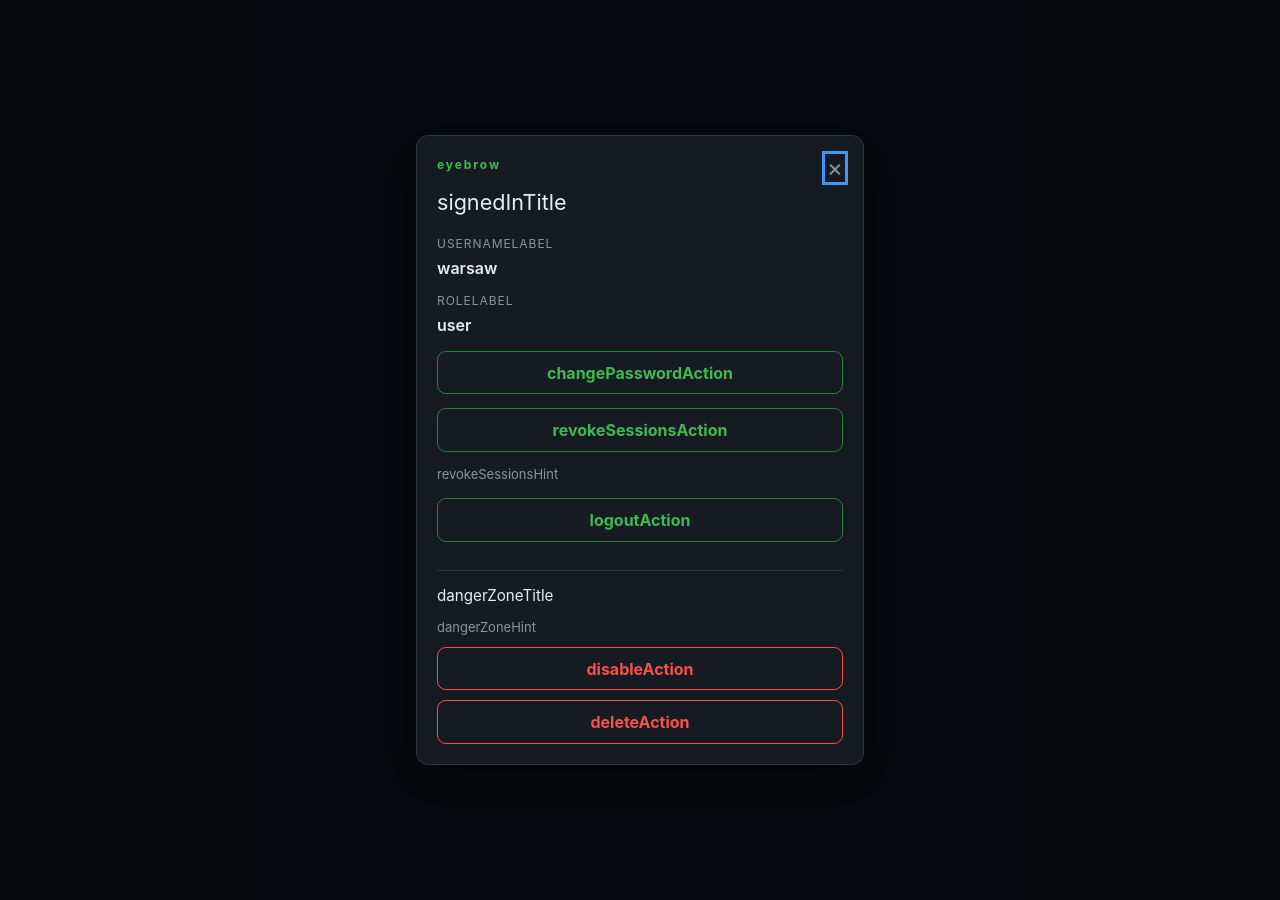
it: account-modal sessions › reports failures and stays in the confirm step
Click the button "deleteAction" at (640, 722), box [437,700,843,744]
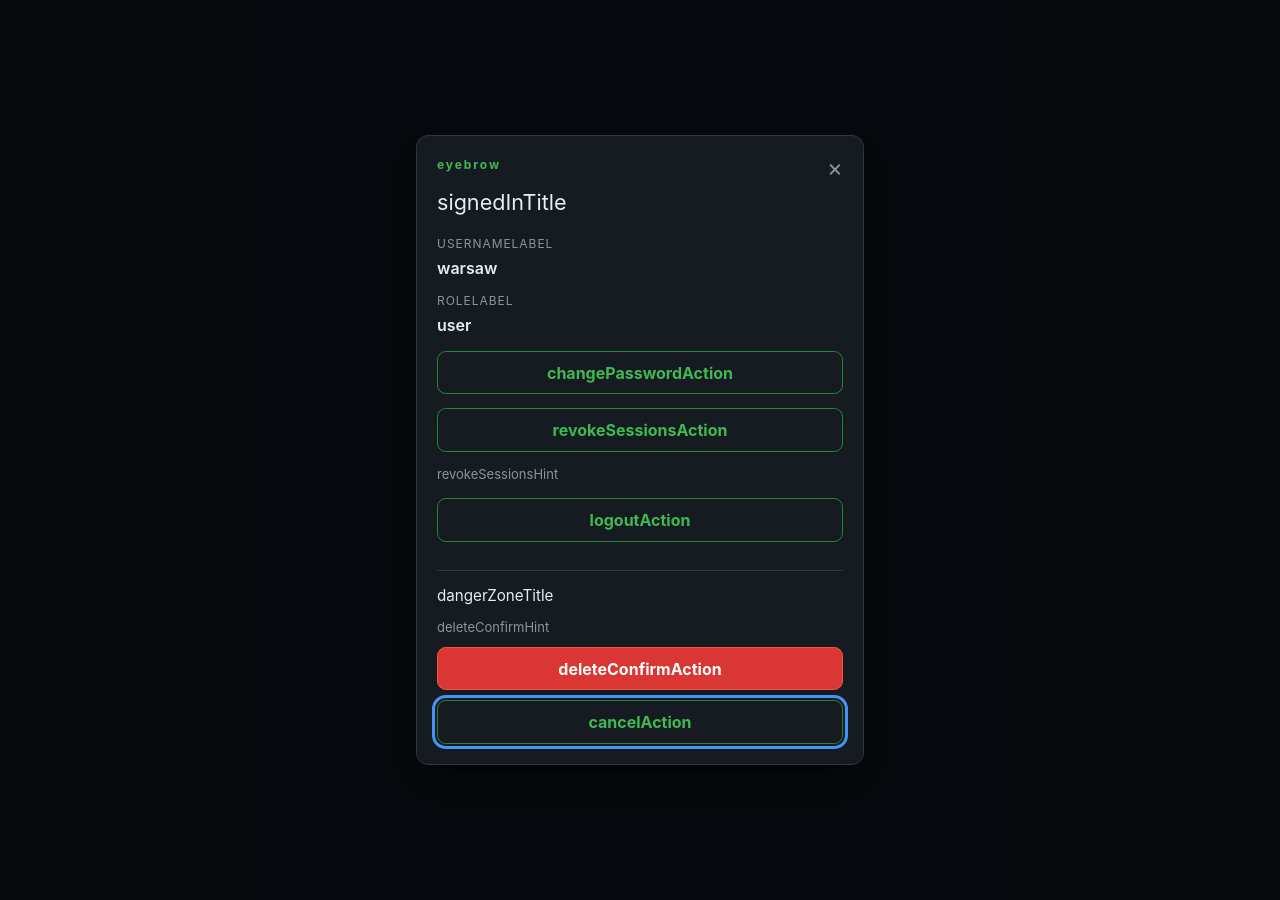
Click the button "deleteConfirmAction" at (640, 669), box [437,647,843,690]
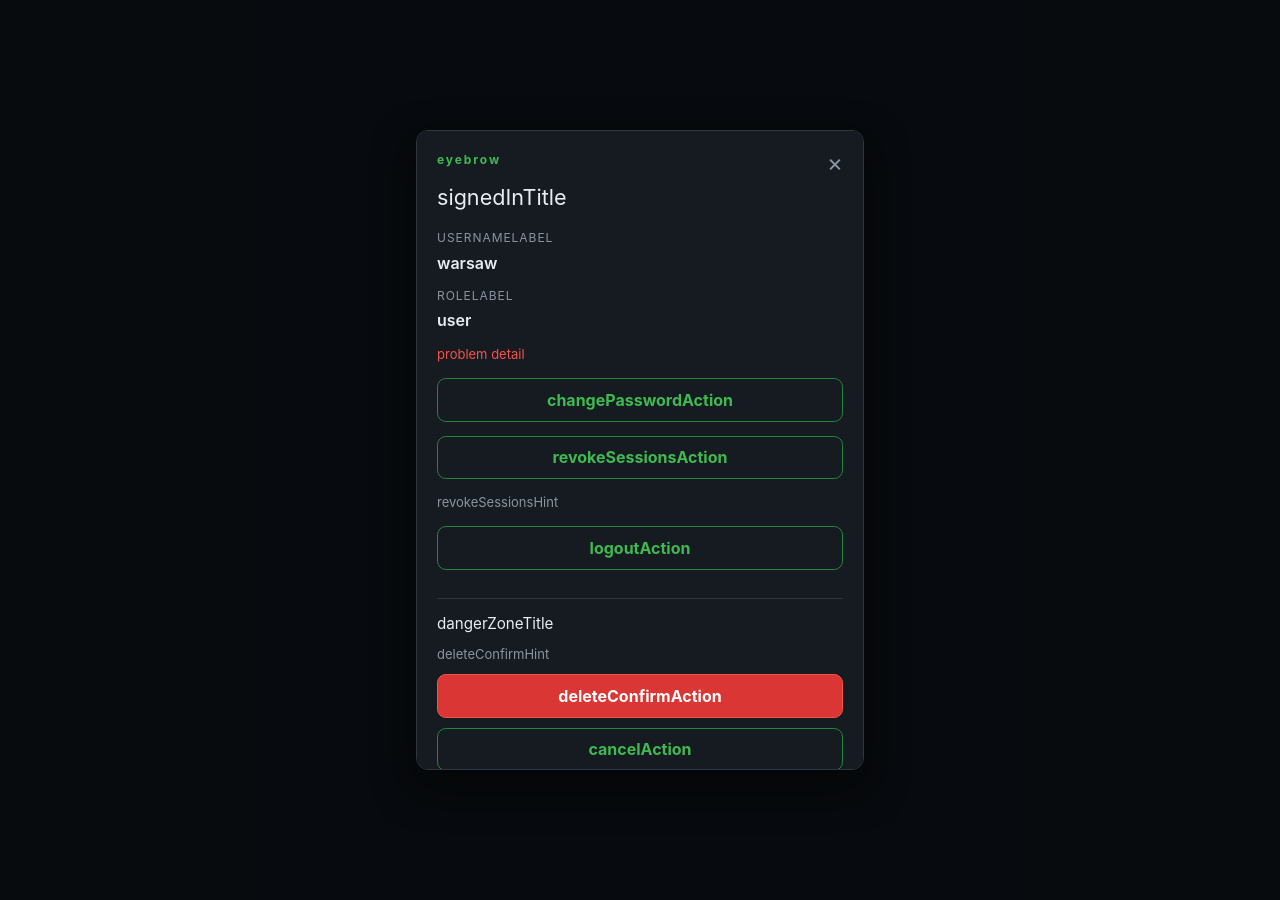
Expected: the button "deleteConfirmAction" is shown
Expected: the message reads "problem detail", [437,346,525,362]
Click the button "deleteConfirmAction" at (640, 696), box [437,674,843,718]
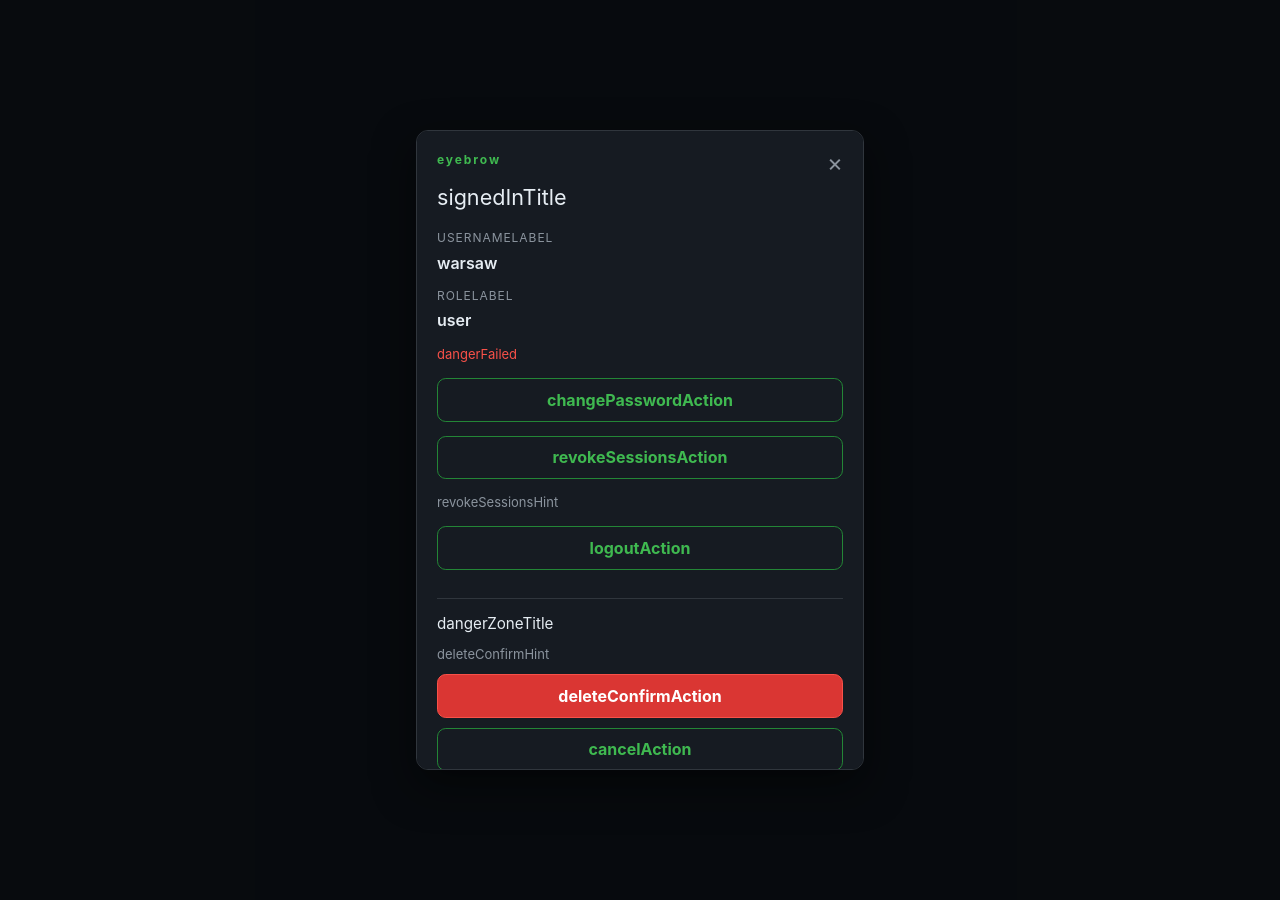
Expected: the message reads "dangerFailed", [437,346,517,362]
Click the button "cancelAction" at (640, 749), box [437,728,843,771]
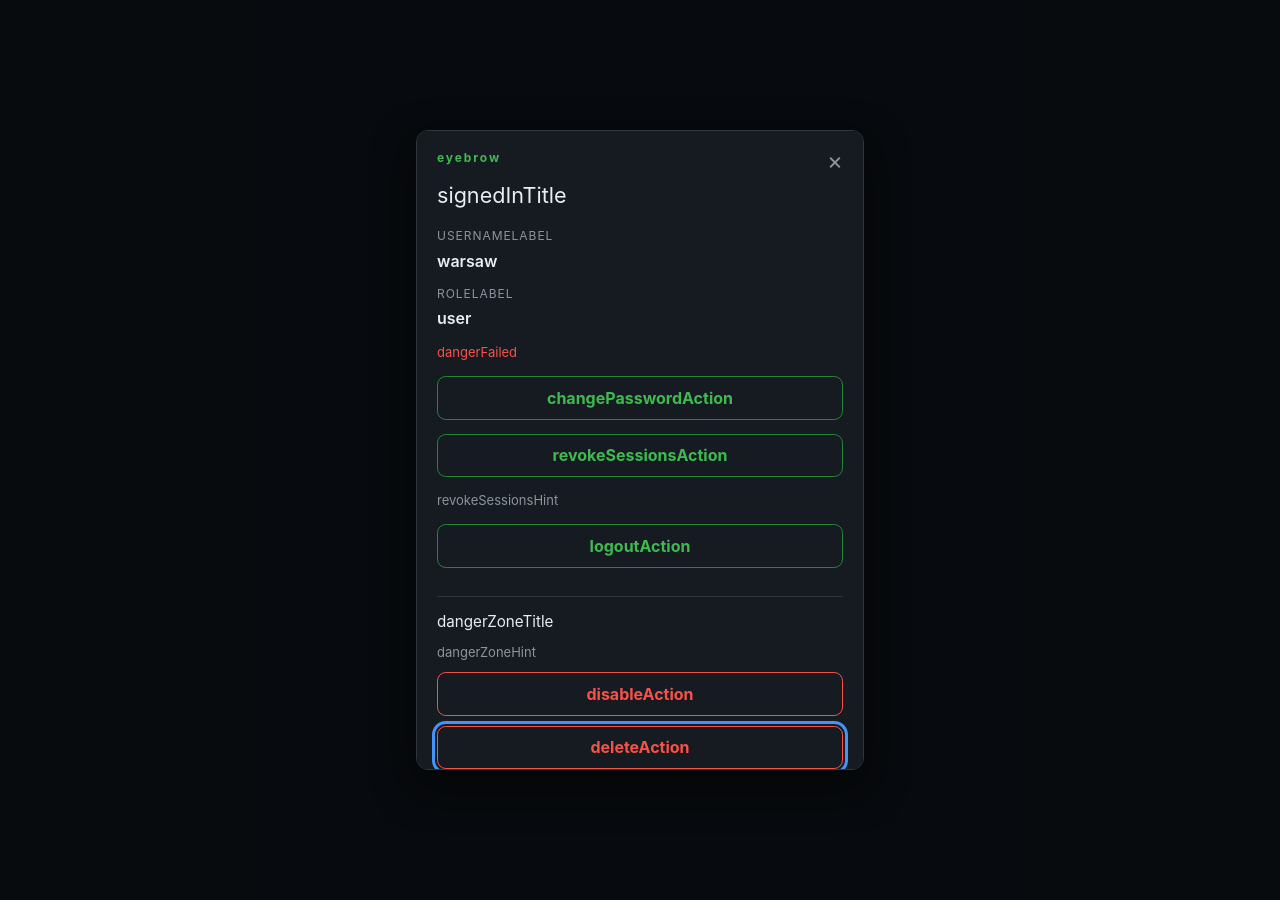
Expected: the button "deleteAction" is shown, [437,726,843,769]
